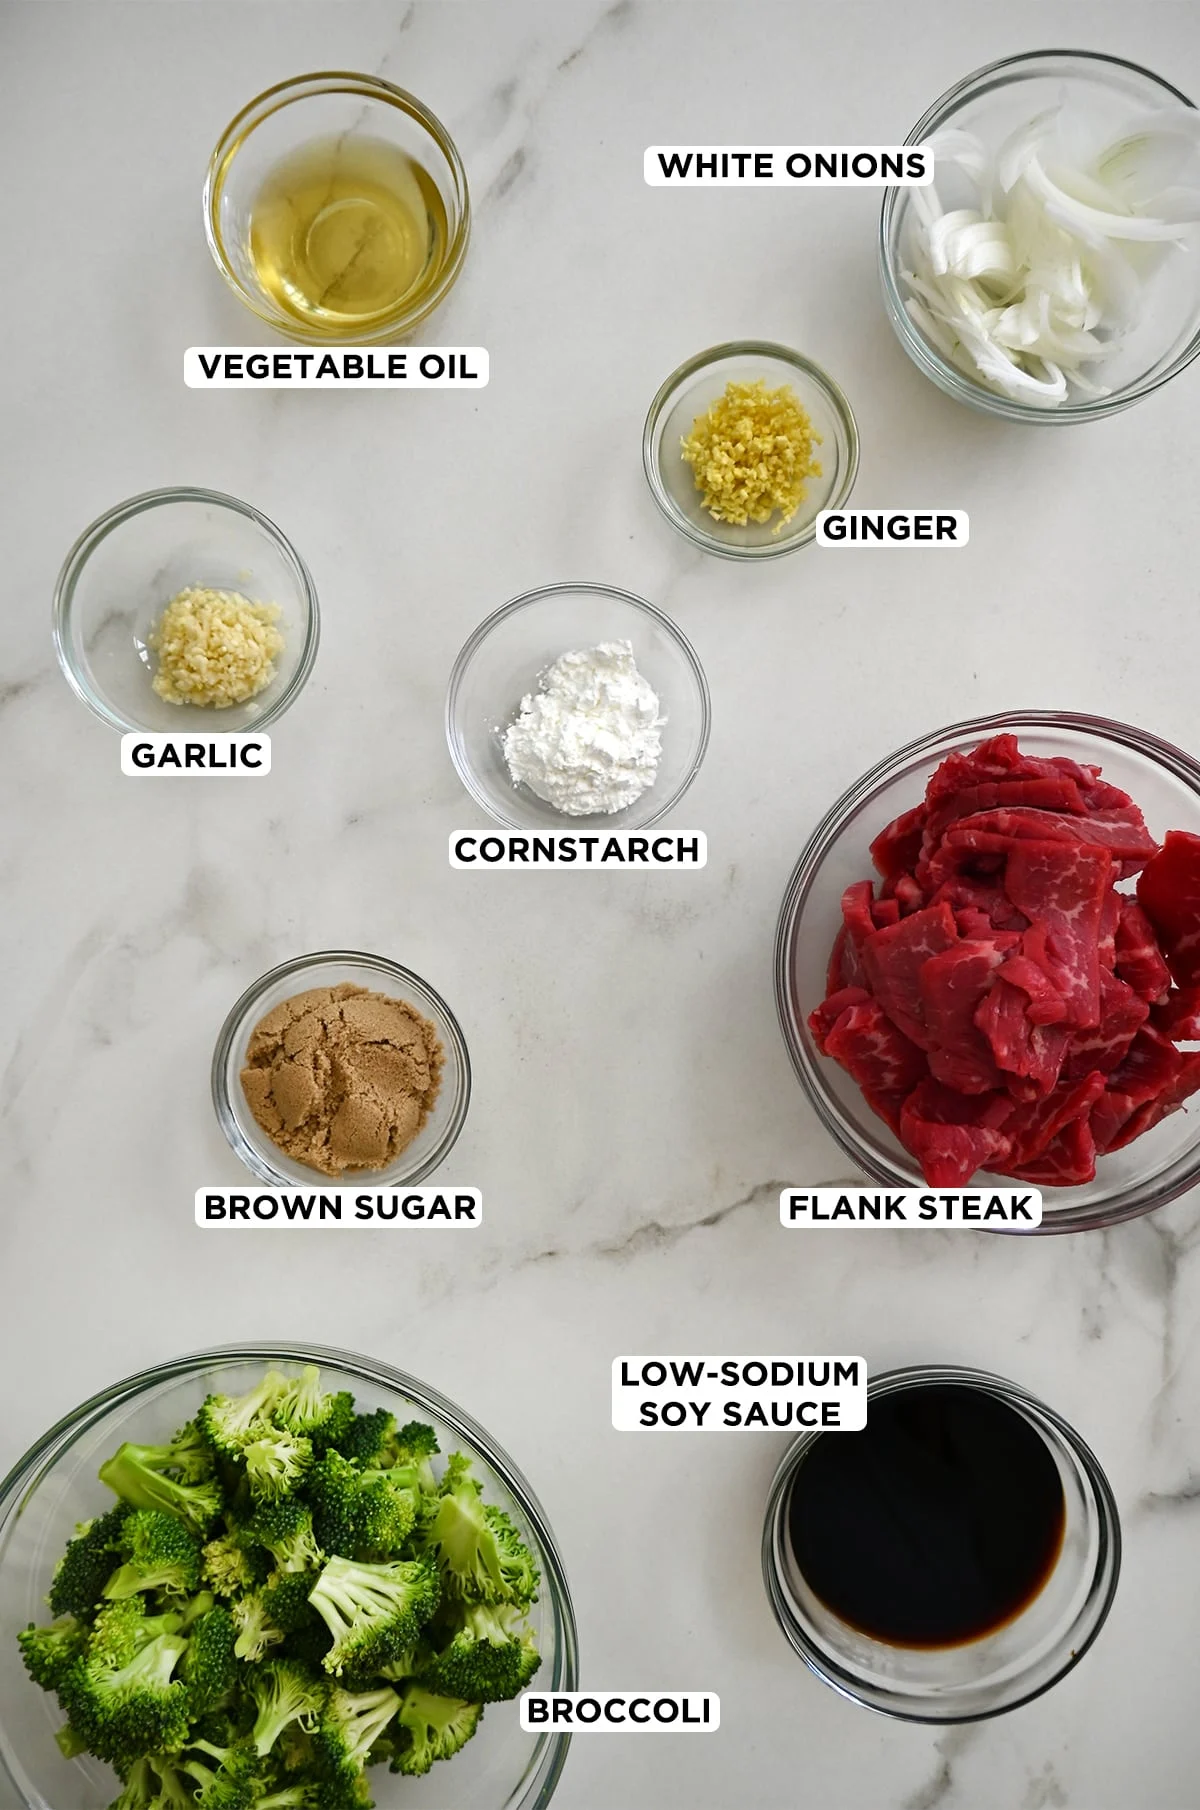Beef: (779, 718, 1200, 1191)
Broccoli: (291, 1541, 453, 1690), (60, 1627, 224, 1768), (163, 1582, 284, 1742), (220, 1617, 335, 1783), (362, 1657, 508, 1786), (412, 1473, 534, 1624), (293, 1438, 429, 1558), (111, 1418, 238, 1540), (100, 1486, 213, 1619), (112, 1726, 271, 1810), (293, 1657, 408, 1768), (427, 1590, 541, 1700), (196, 1518, 275, 1609), (233, 1412, 309, 1497), (204, 1374, 279, 1458)
